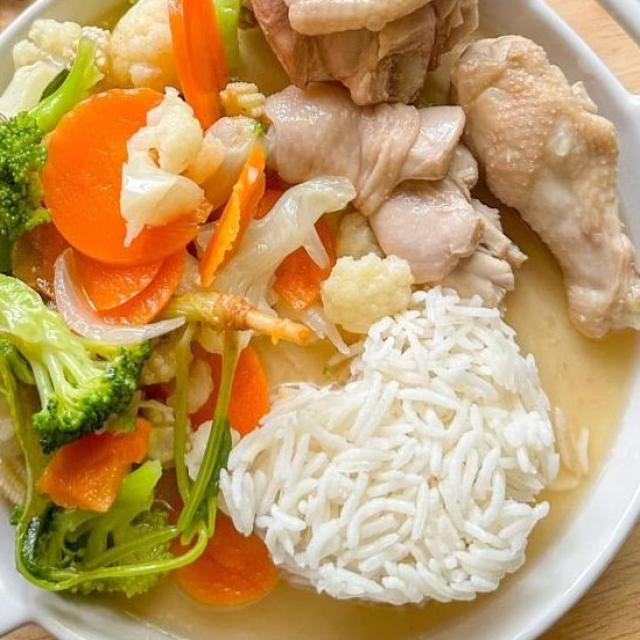Chicken: (242, 0, 639, 340)
Plate: (416, 341, 639, 639)
Rice: (207, 287, 562, 609)
Vegetables: (0, 1, 417, 619)
